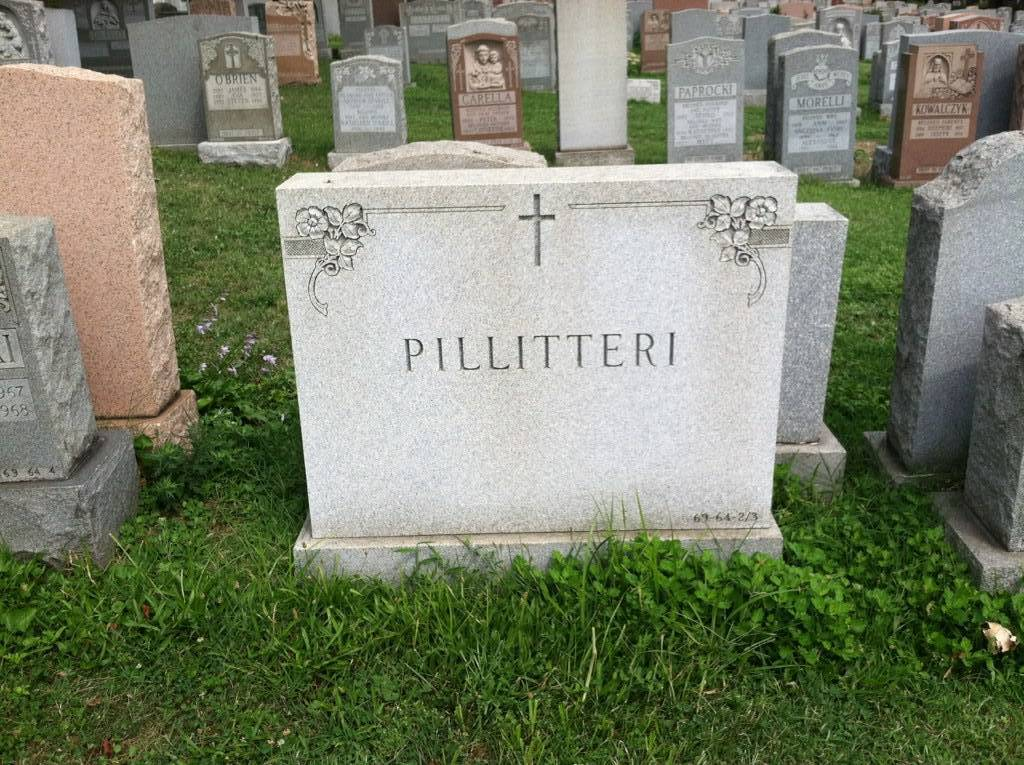upright: (272, 164, 797, 563)
